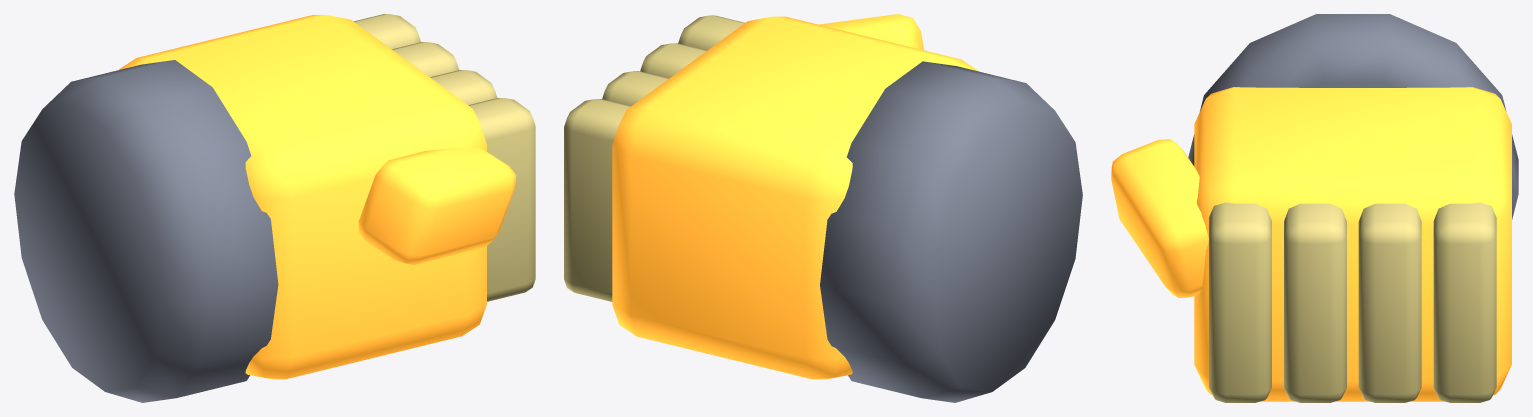
The model's file is power_fist.glb.
3 views of the same model, side by side, from view 1: azimuth 30°, elevation 25°; view 2: azimuth 150°, elevation 25°; view 3: azimuth 270°, elevation 25° (orthographic). The views are drawn at different scales.
Parts seen in each view (by area): view 1: FistCuff, Cube, Cube.005, Cube.001, Cube.002, Cube.003, Cube.004; view 2: Cube, FistCuff, Cube.004, Cube.005, Cube.001, Cube.002, Cube.003; view 3: Cube, FistCuff, Cube.004, Cube.003, Cube.001, Cube.002, Cube.005.
Part boxes in pixels (<box>): FistCuff: <box>14,60,278,402</box>; Cube: <box>119,15,486,379</box>; Cube.005: <box>358,147,515,264</box>; Cube.001: <box>468,98,535,301</box>; Cube.002: <box>430,70,497,105</box>; Cube.003: <box>392,42,458,77</box>; Cube.004: <box>354,14,420,49</box>; Cube: <box>612,16,978,379</box>; FistCuff: <box>820,61,1082,402</box>; Cube.004: <box>564,99,630,301</box>; Cube.005: <box>819,14,923,50</box>; Cube.001: <box>678,15,744,50</box>; Cube.002: <box>640,43,706,78</box>; Cube.003: <box>602,71,668,106</box>; Cube: <box>1194,87,1511,401</box>; FistCuff: <box>1188,14,1518,219</box>; Cube.004: <box>1433,202,1496,402</box>; Cube.003: <box>1358,203,1421,402</box>; Cube.001: <box>1209,202,1271,402</box>; Cube.002: <box>1284,203,1346,402</box>; Cube.005: <box>1111,139,1208,297</box>.
Bounding box in the file's own units: 0.65 × 0.4875 × 0.6152.
